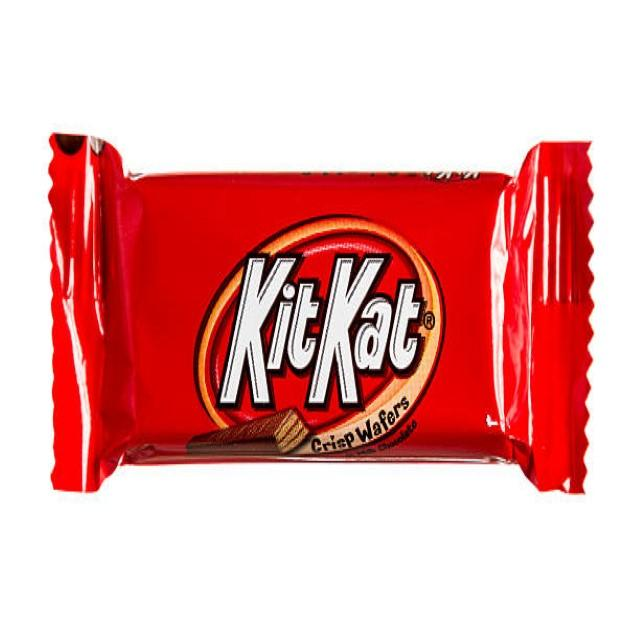kitkat_chocolate: (53, 137, 590, 500)
